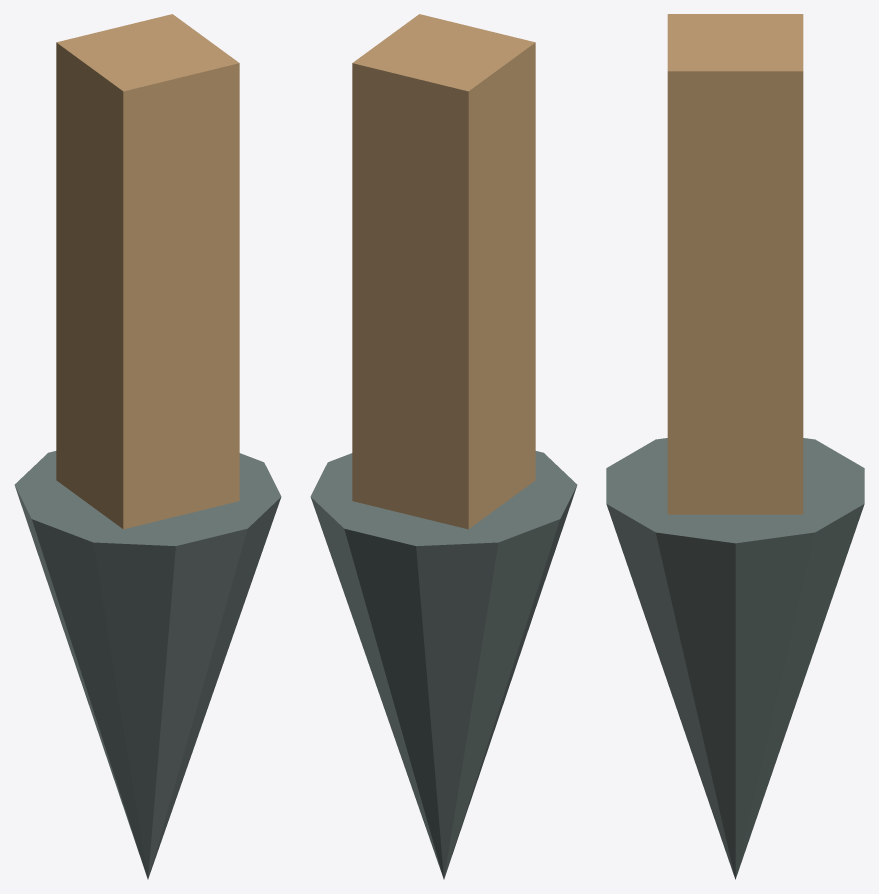
Rendered from cozy-farm-and-homestead-hand-trowel-004afd2e__19405.glb.
3 renders of one model, left to right at view 1: azimuth 30°, elevation 25°; view 2: azimuth 150°, elevation 25°; view 3: azimuth 270°, elevation 25°, orthographic.
Visible parts, largest first — view 1: hand-trowel; view 2: hand-trowel; view 3: hand-trowel.
Boxes of the visible parts, x1,y1,x2,y2 form: hand-trowel: (14,14,281,879); hand-trowel: (310,14,577,879); hand-trowel: (606,14,864,879).
Bounding box in the file's own units: 0.1 × 0.34 × 0.0951.
